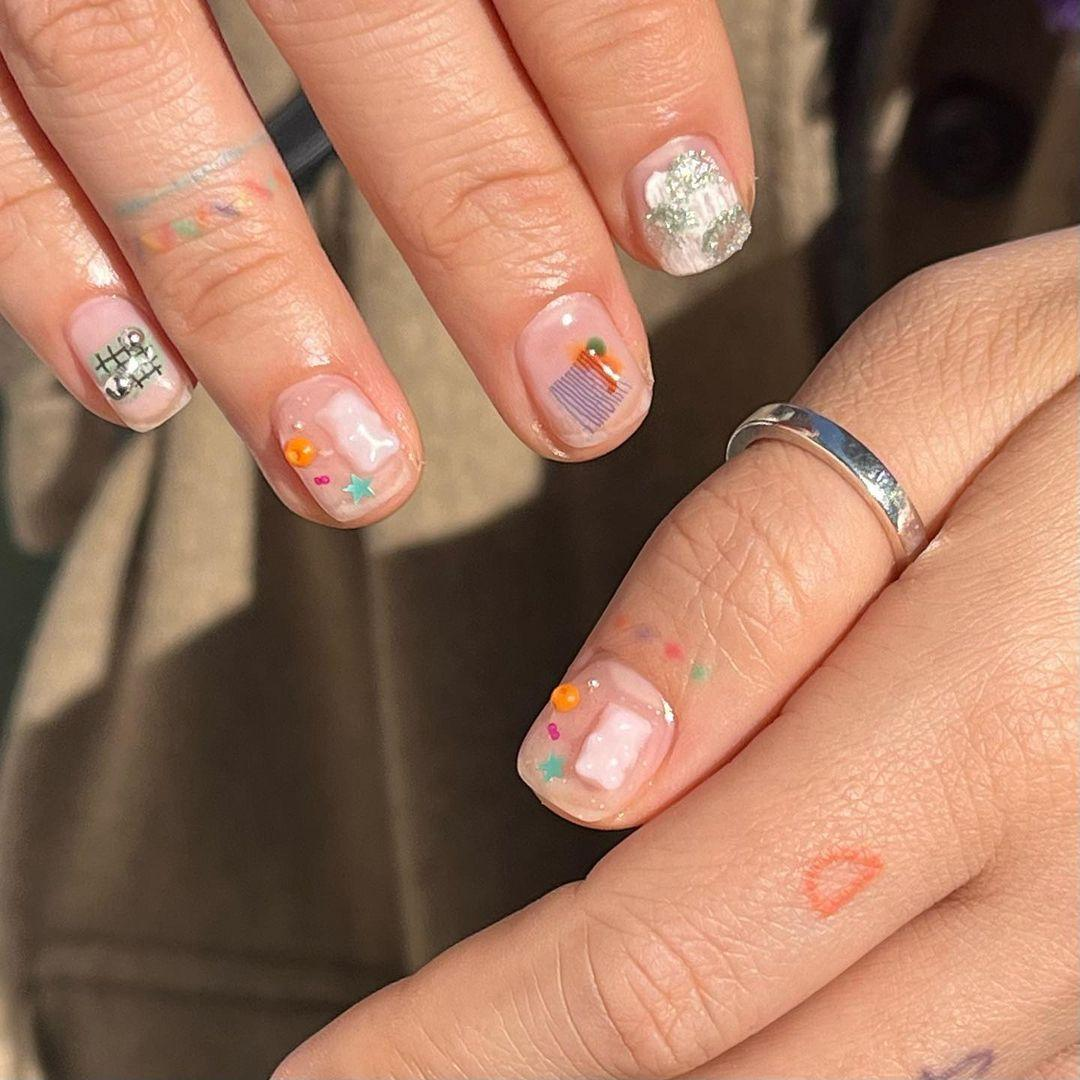nail: (515, 654, 676, 826), (513, 289, 654, 457), (270, 370, 414, 526), (622, 131, 753, 276), (63, 291, 195, 432)
